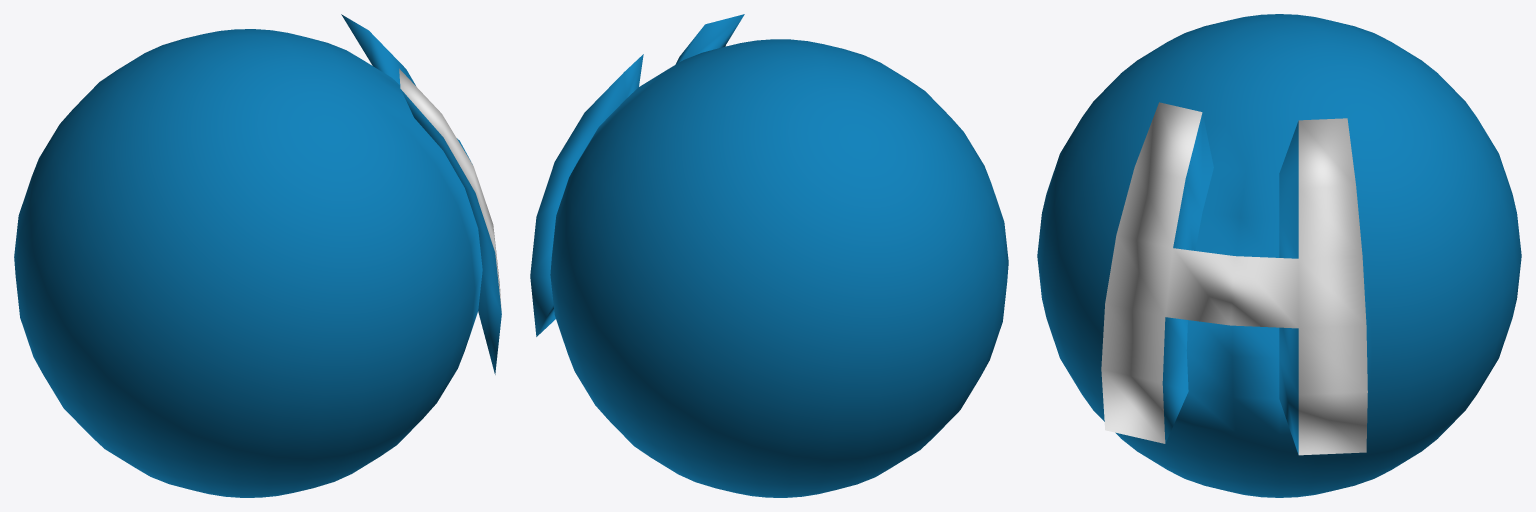
The picture shows the model from 3 angles, left to right: view 1: azimuth 30°, elevation 25°; view 2: azimuth 150°, elevation 25°; view 3: azimuth 270°, elevation 25°; orthographic projection. The views are drawn at different scales.
Parts seen in each view (by area): view 1: 球; view 2: 球; view 3: 球.
Boxes of the visible parts, <box> form: 球: <box>14,14,501,497</box>; 球: <box>530,14,1008,497</box>; 球: <box>1037,14,1521,497</box>.
Size of the model in its own units: 176 by 170 by 170.
